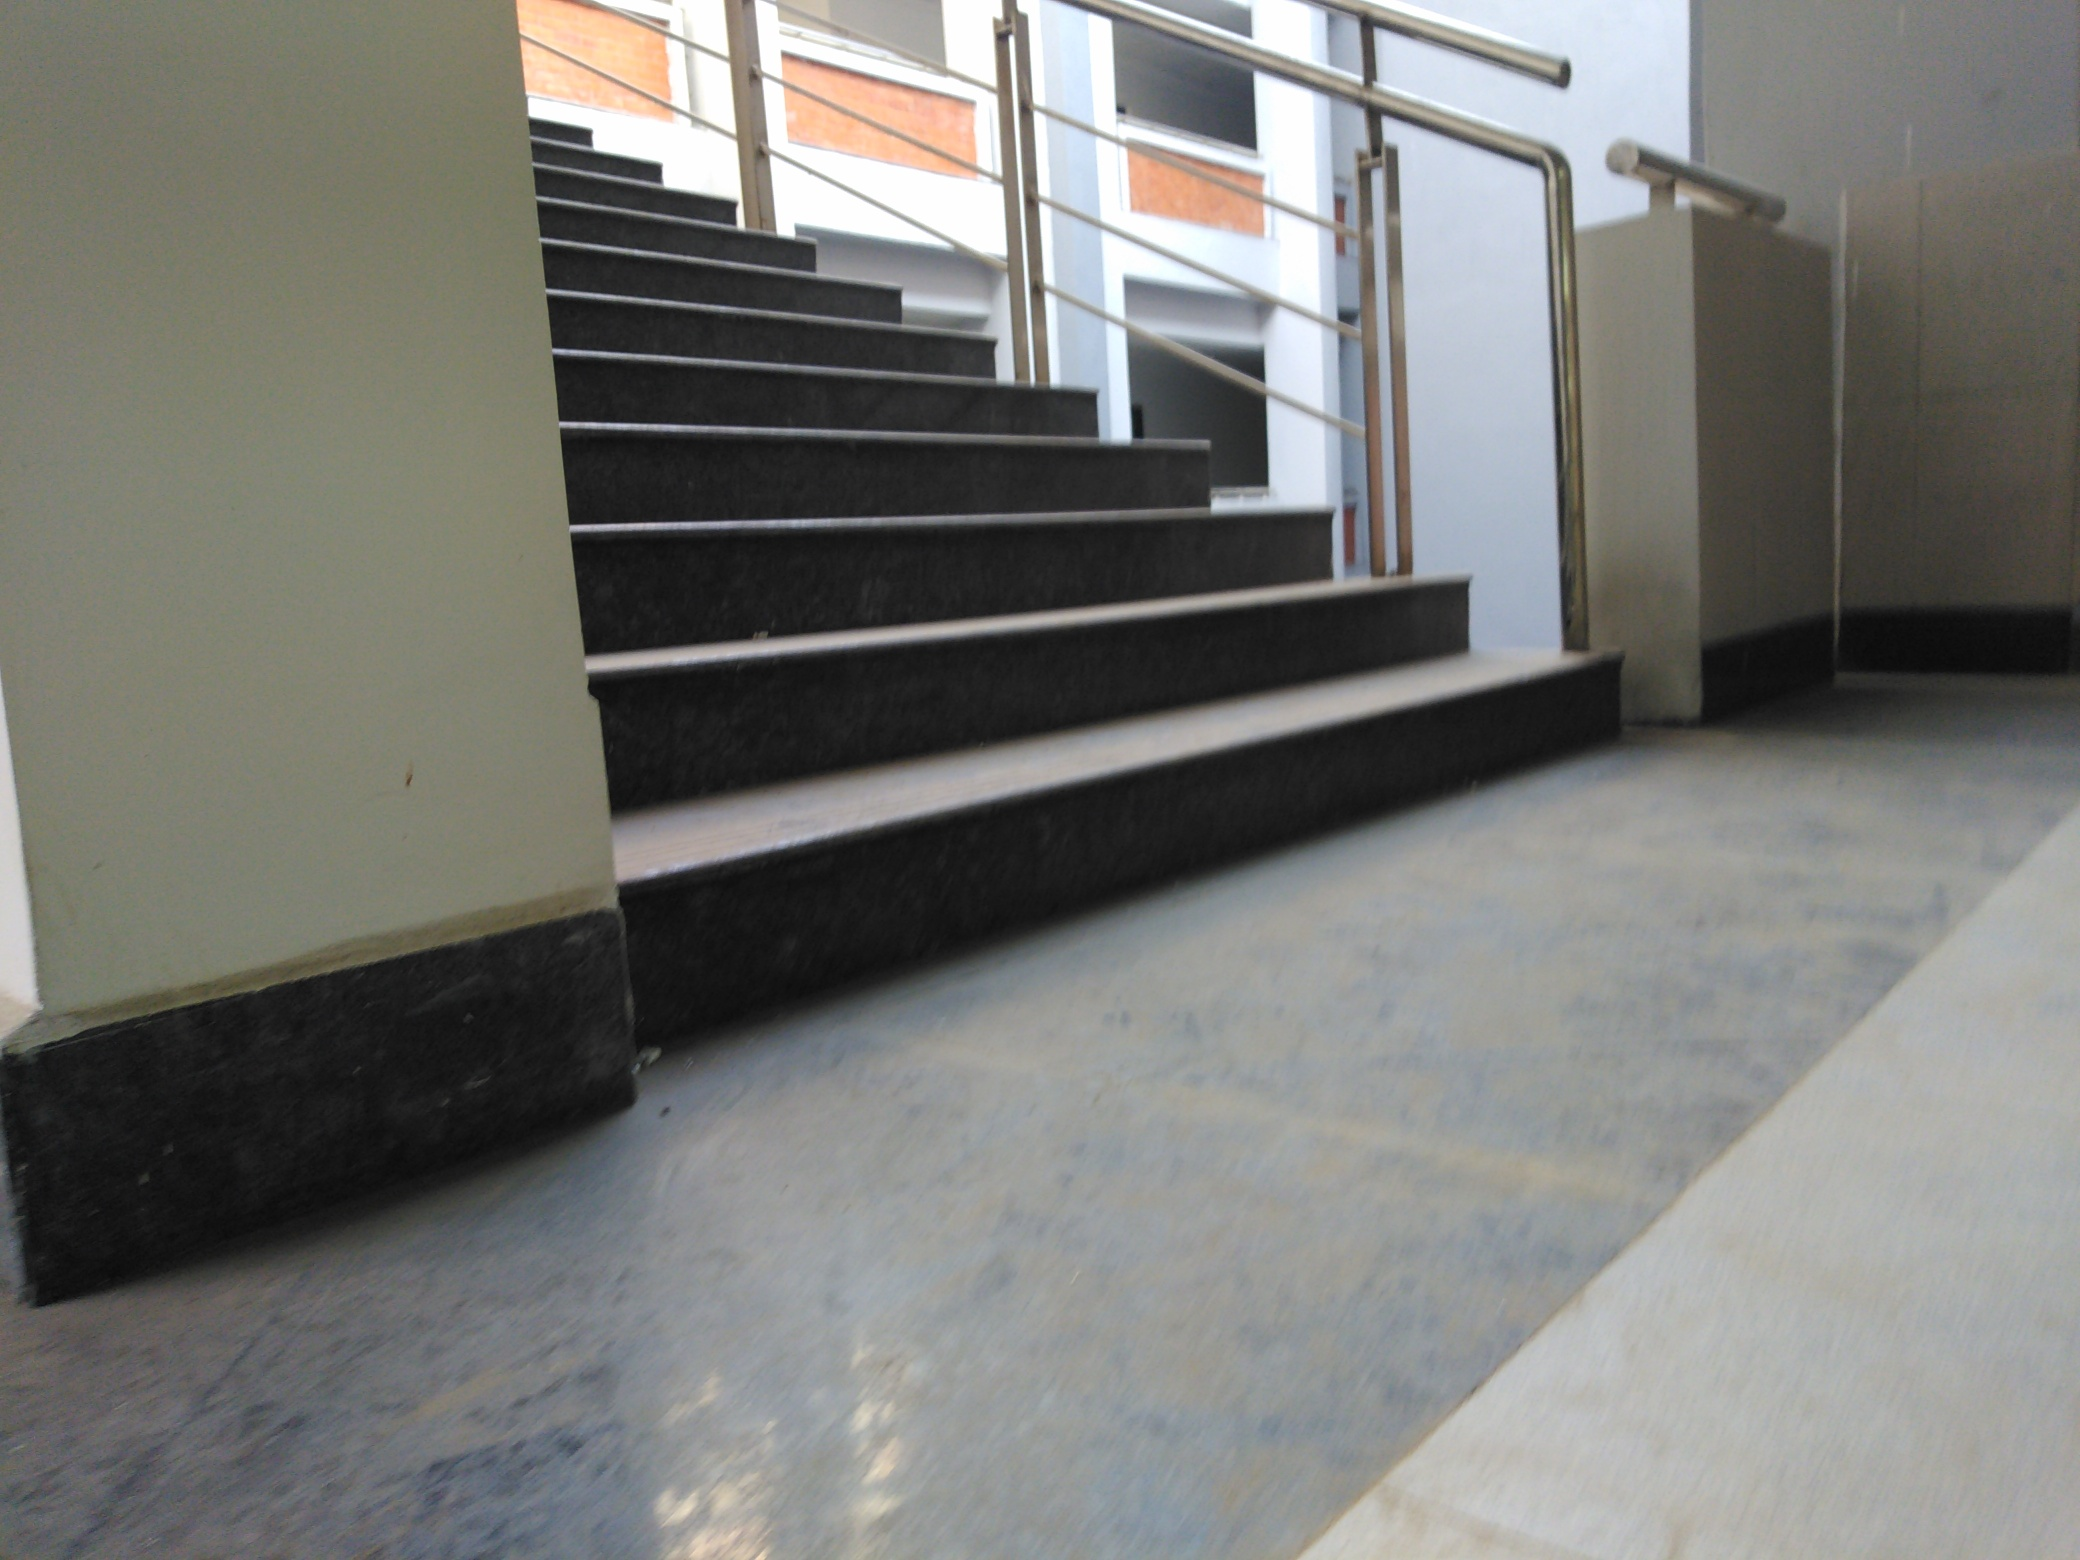stairs_up: (534, 121, 1571, 914)
